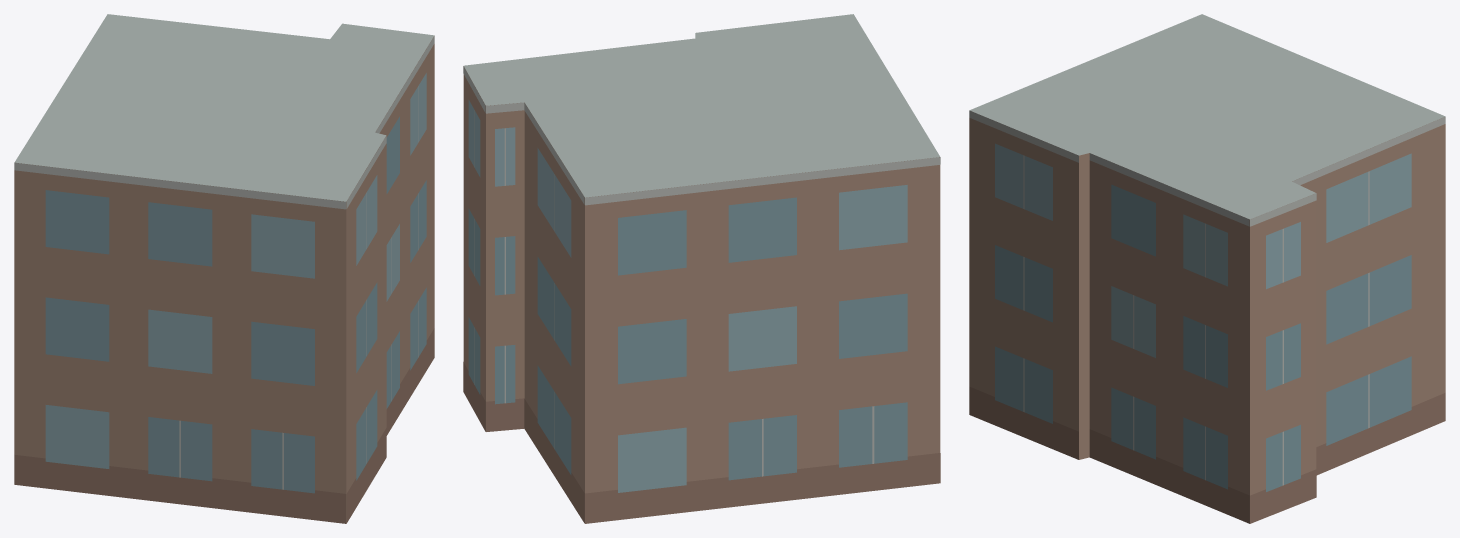
The model's file is survey-upis-32934360.glb.
3 renders of one model, left to right at view 1: azimuth 30°, elevation 25°; view 2: azimuth 150°, elevation 25°; view 3: azimuth 270°, elevation 25°, orthographic. The views are drawn at different scales.
Parts seen in each view (by area): view 1: survey-upis-32934360.tmp; view 2: survey-upis-32934360.tmp; view 3: survey-upis-32934360.tmp.
Boxes of the visible parts, x1=… form: survey-upis-32934360.tmp: x1=14, y1=14, x2=434, y2=523; survey-upis-32934360.tmp: x1=463, y1=14, x2=940, y2=523; survey-upis-32934360.tmp: x1=969, y1=14, x2=1445, y2=523.
Bounding box in the file's own units: 14.7 × 10.15 × 14.4.
